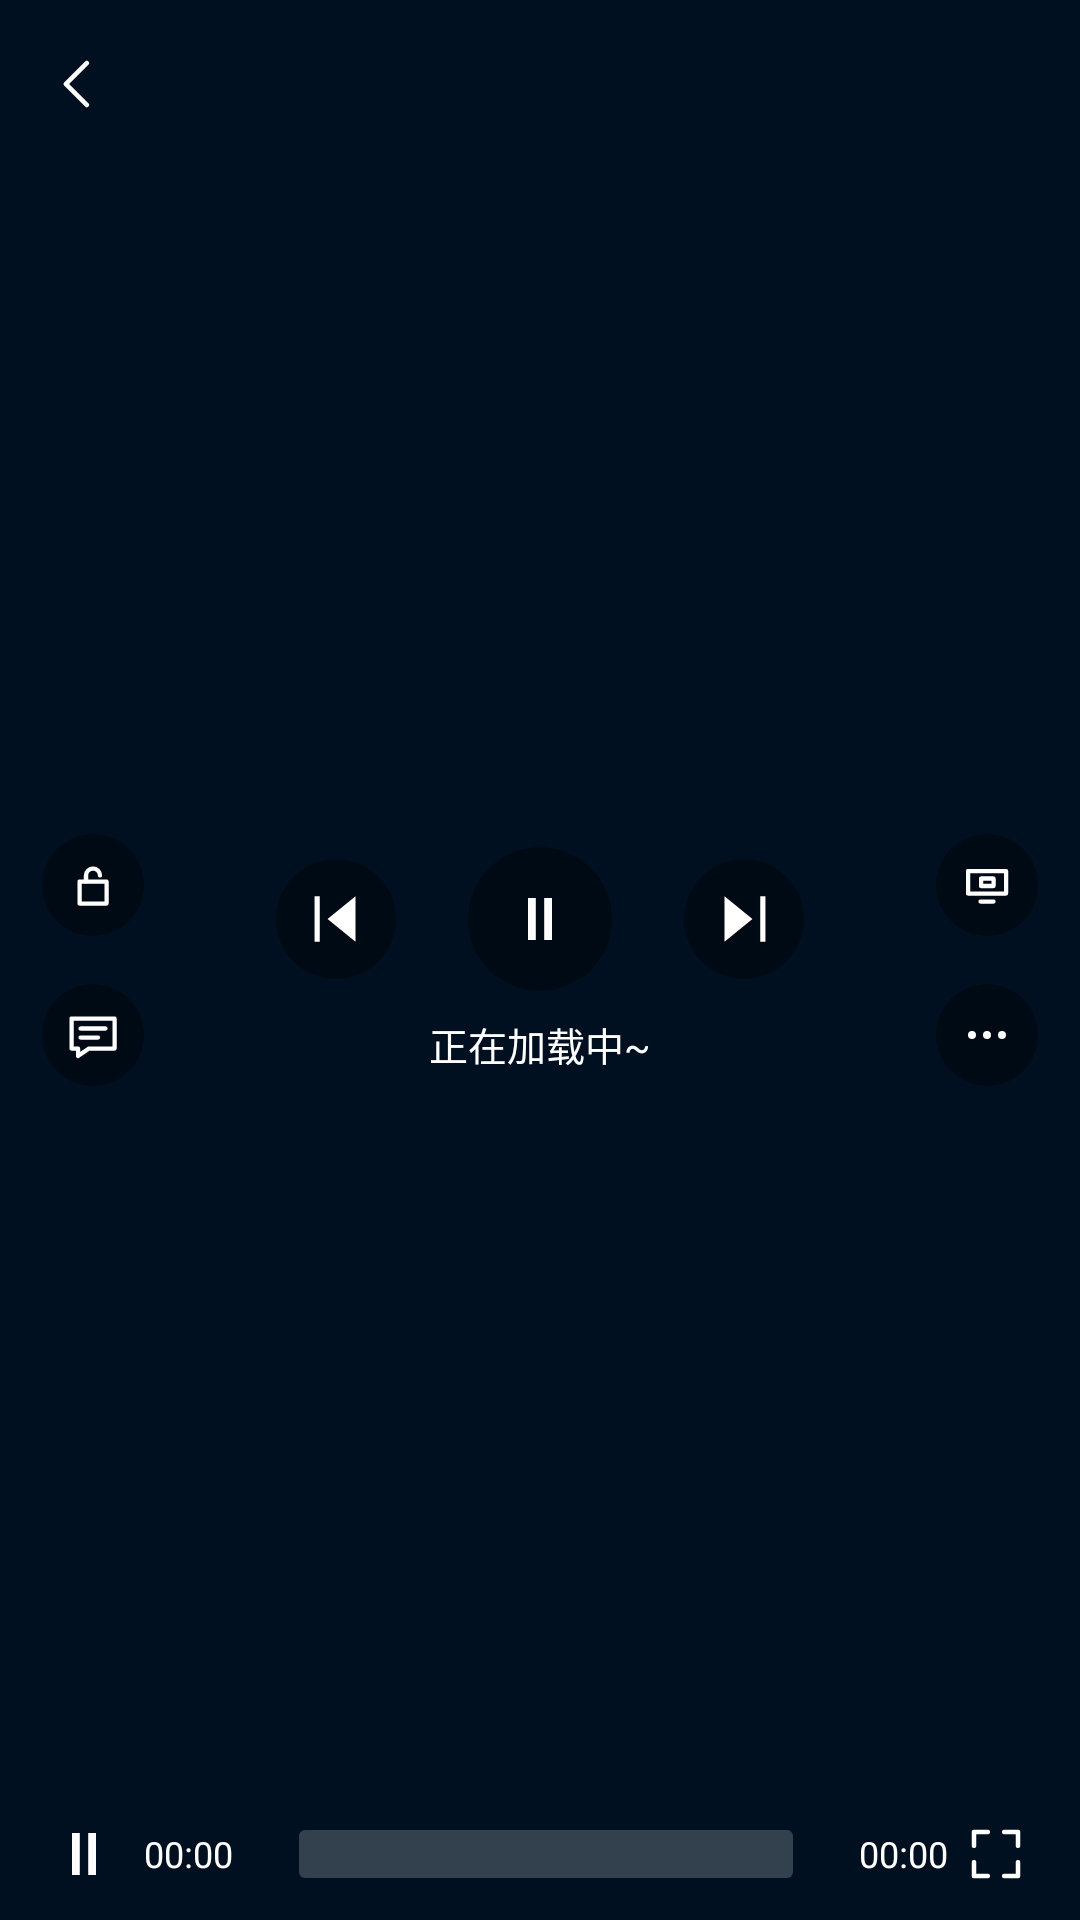

Icon click points for this 1080px x 1920px phone screenshot, format (x=x, y=y):
back: (x=76, y=84)
danmaku: (x=93, y=1035)
expand: (x=996, y=1854)
float: (x=987, y=886)
more: (x=987, y=1035)
next: (x=744, y=919)
pause: (x=540, y=919), (x=84, y=1854)
prev: (x=336, y=919)
unlock: (x=93, y=885)
